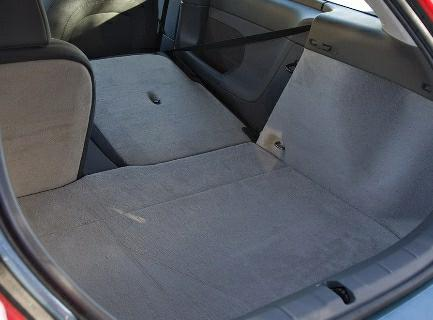car: (1, 2, 432, 320)
